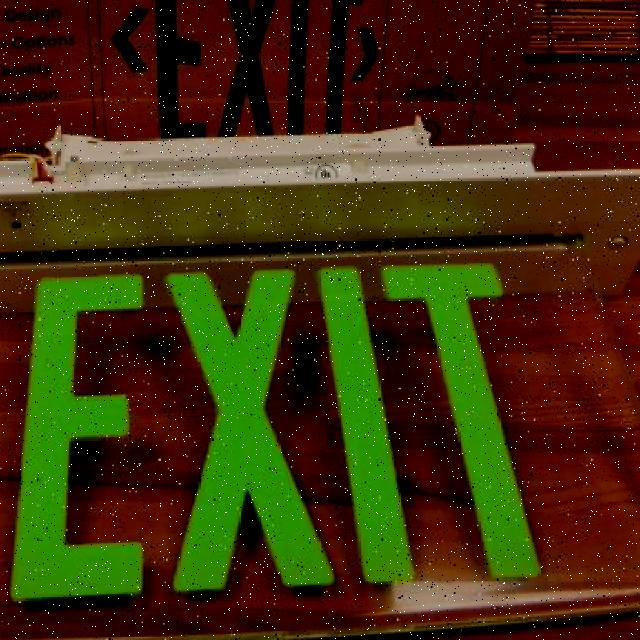emergency_exit: (2, 2, 638, 637), (2, 147, 638, 637), (8, 251, 546, 609)
